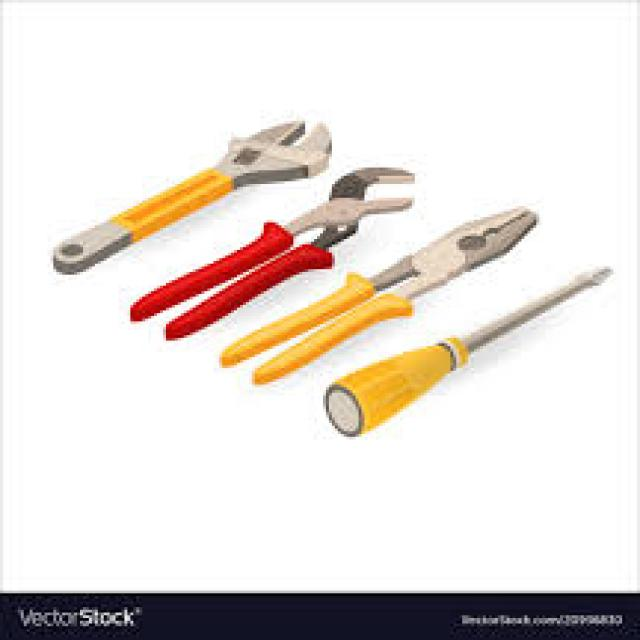Screwdriver: (326, 271, 612, 434)
